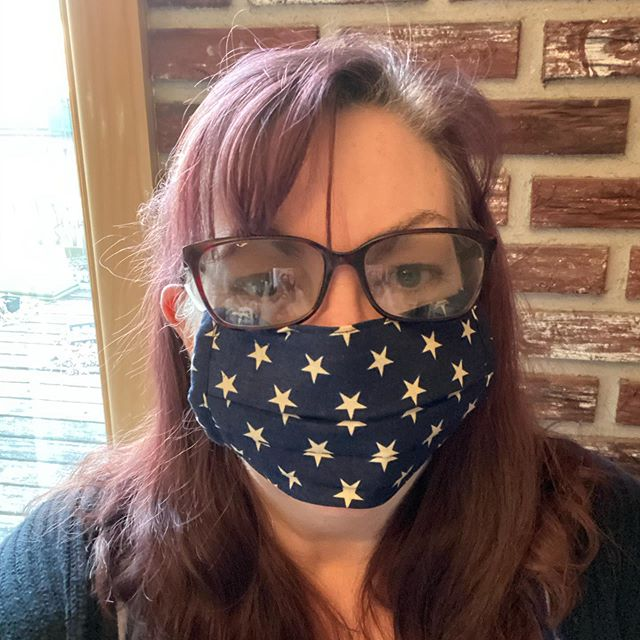homemade: (176, 286, 497, 512)
